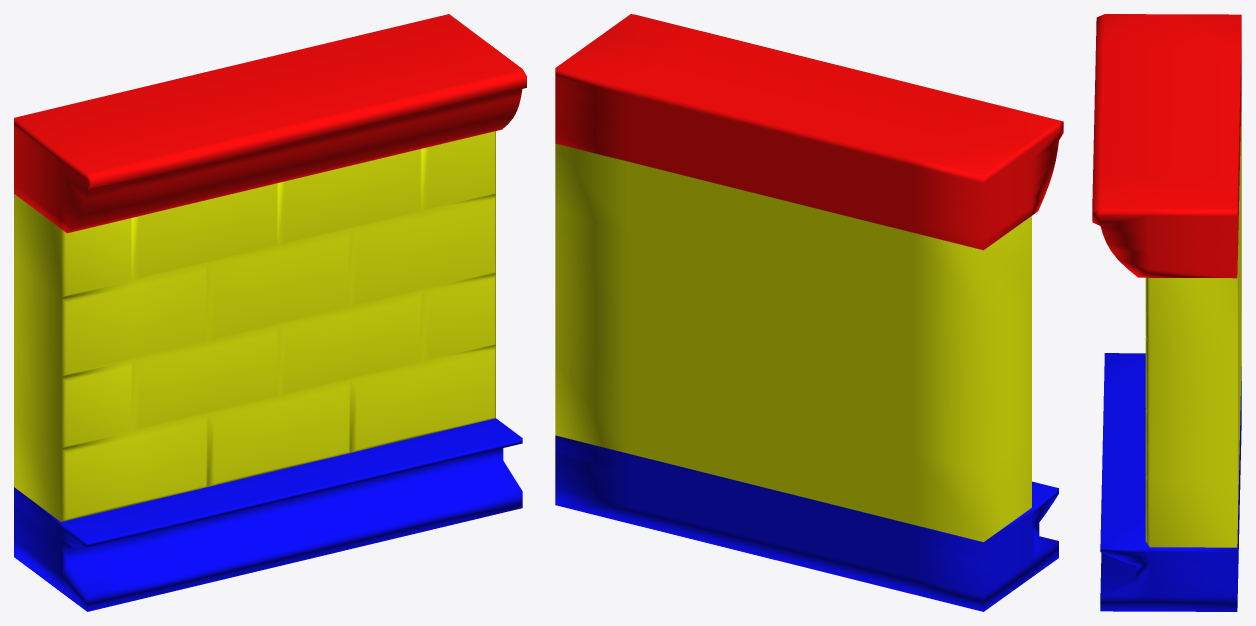
File: NEW_wall_textured.fbx
3 renders of one model, left to right at view 1: azimuth 30°, elevation 25°; view 2: azimuth 150°, elevation 25°; view 3: azimuth 270°, elevation 25°, orthographic. The views are drawn at different scales.
Parts seen in each view (by area): view 1: wall_high1 (×3); view 2: wall_high1 (×3); view 3: wall_high1 (×3).
Boxes of the visible parts, x1,y1,x2,y2 form: wall_high1 (×3): (14,14,526,611); wall_high1 (×3): (555,14,1063,611); wall_high1 (×3): (1092,14,1241,611).
Bounding box in the file's own units: 5.6 × 5.42 × 1.82.
